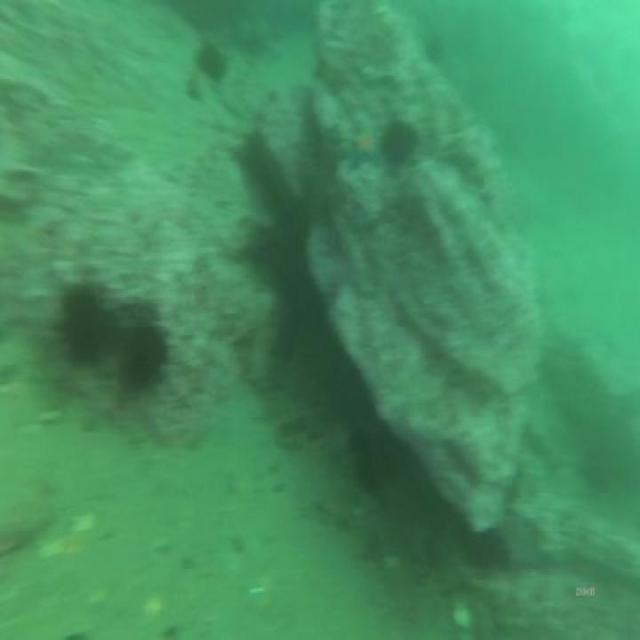echinus: (116, 322, 168, 393), (59, 288, 105, 367), (383, 117, 416, 166), (197, 42, 223, 80)
starfish: (346, 124, 379, 168)
